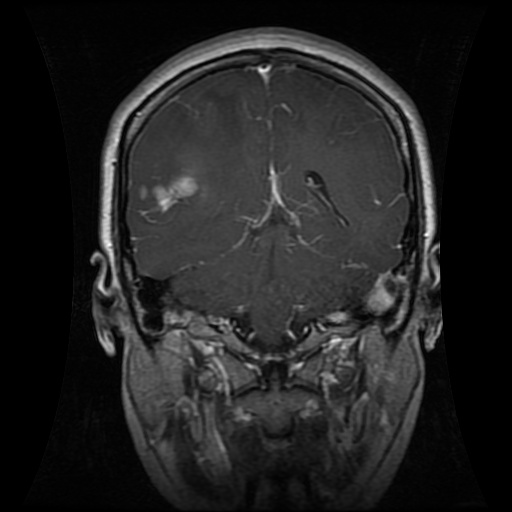glioma: (135, 162, 207, 224)
